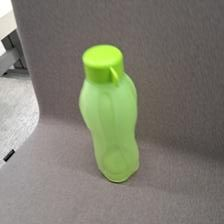bottle: (78, 42, 145, 183)
